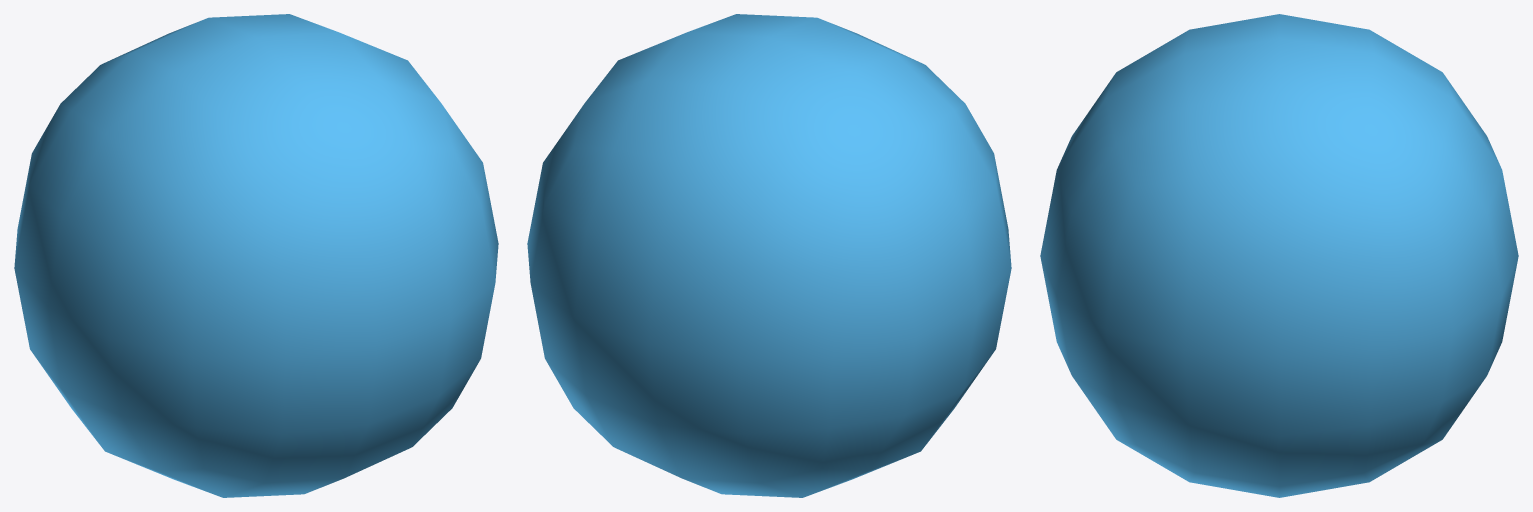
3 renders of one model, left to right at view 1: azimuth 30°, elevation 25°; view 2: azimuth 150°, elevation 25°; view 3: azimuth 270°, elevation 25°, orthographic.
Parts seen in each view (by area): view 1: MyCube; view 2: MyCube; view 3: MyCube.
Boxes of the visible parts, left/top/right/bottom form: MyCube: left=14, top=14, right=498, bottom=497; MyCube: left=527, top=14, right=1011, bottom=497; MyCube: left=1040, top=14, right=1518, bottom=497.
Size of the model in its own units: 1.68 by 1.68 by 1.68.
